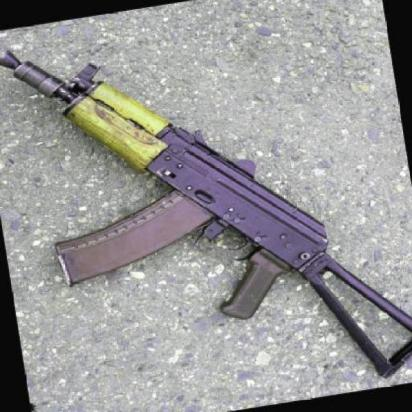Gun: (0, 53, 411, 364)
